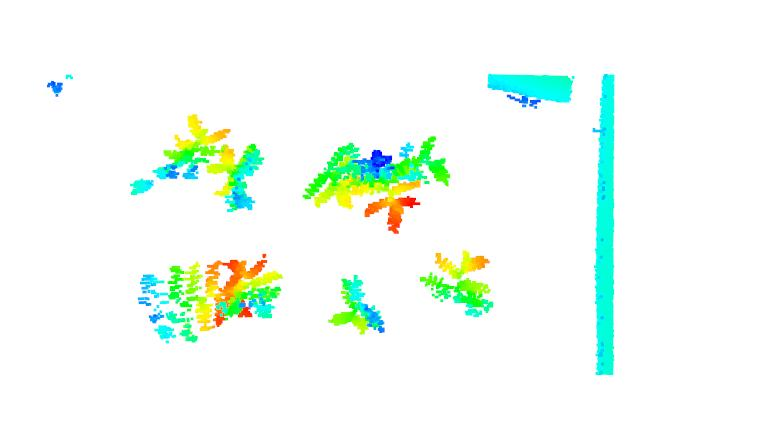chickpea: (364, 131, 452, 238), (129, 111, 228, 199), (127, 260, 227, 346), (297, 138, 376, 214), (417, 248, 501, 319), (220, 257, 294, 326), (204, 141, 272, 211), (326, 274, 386, 341)
